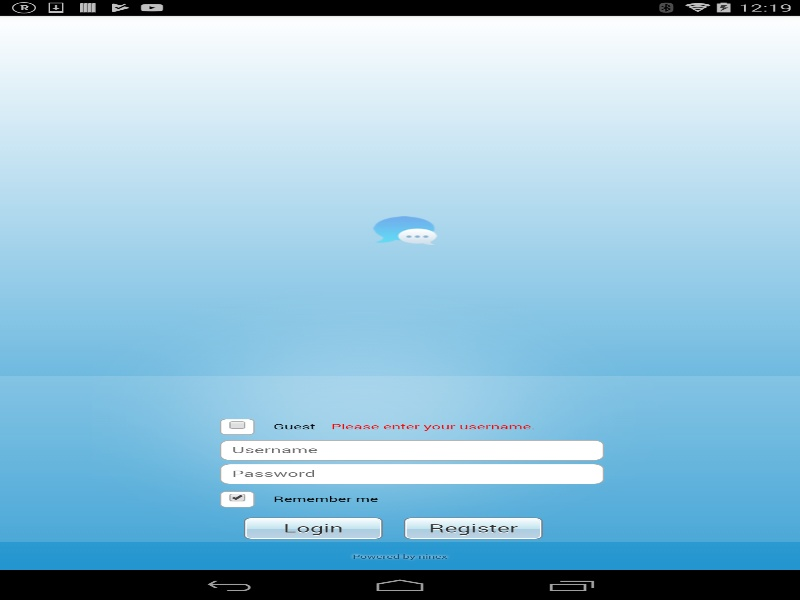Button: (220, 505, 244, 516)
Input: (338, 440, 565, 460), (338, 464, 565, 483)
